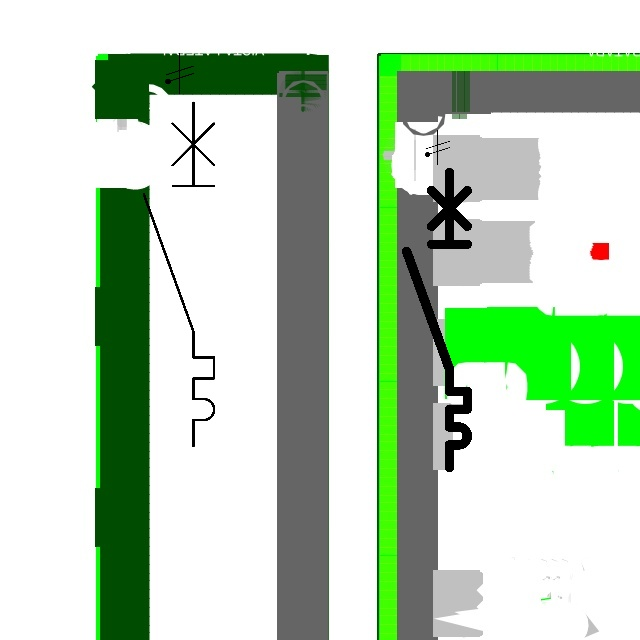interruptor_termomagnetico: (135, 93, 223, 454), (399, 165, 475, 475)
